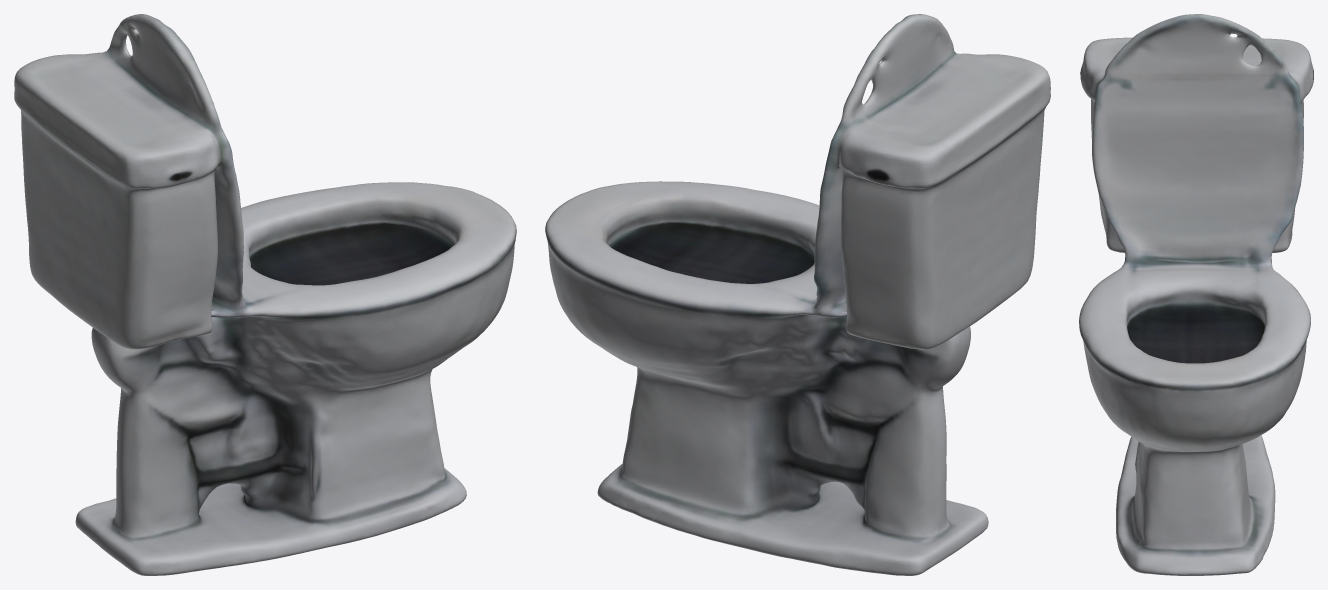
Rendered from 0fd0db3335cd_toilet__3d_asset_0_.obj.
The picture shows the model from 3 angles, left to right: view 1: azimuth 30°, elevation 25°; view 2: azimuth 150°, elevation 25°; view 3: azimuth 270°, elevation 25°; orthographic projection. The views are drawn at different scales.
Visible parts, largest first — view 1: high_poly; view 2: high_poly; view 3: high_poly.
Boxes of the visible parts, x1,y1,x2,y2 form: high_poly: [14, 14, 516, 575]; high_poly: [545, 14, 1050, 575]; high_poly: [1079, 14, 1313, 575].
Size of the model in its own units: 0.868 by 1 by 0.472.
1 material, 1 textured.
